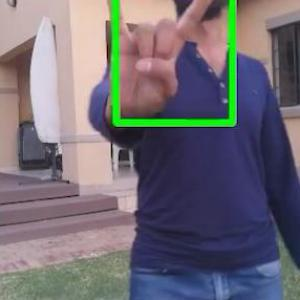takeoff-hand: (101, 0, 214, 125)
